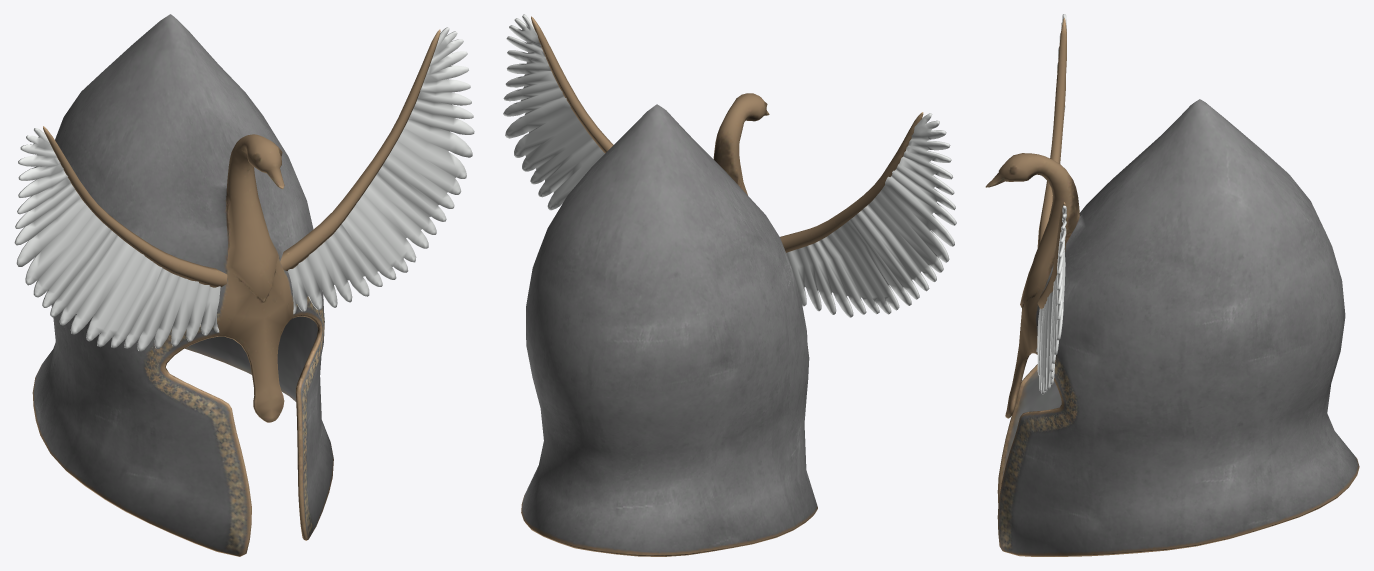
File: swan_knight_helmet_winged.fbx
The picture shows the model from 3 angles, left to right: view 1: azimuth 30°, elevation 25°; view 2: azimuth 150°, elevation 25°; view 3: azimuth 270°, elevation 25°; orthographic projection. The views are drawn at different scales.
Visible parts, largest first — view 1: swan_knight_helmet_winged; view 2: swan_knight_helmet_winged; view 3: swan_knight_helmet_winged.
Boxes of the visible parts, box(x1,y1,x2,y2) form: swan_knight_helmet_winged: box(14, 14, 474, 556); swan_knight_helmet_winged: box(503, 14, 956, 556); swan_knight_helmet_winged: box(985, 14, 1359, 556).
Bounding box in the file's own units: 0.3888 × 0.2886 × 0.3724.
